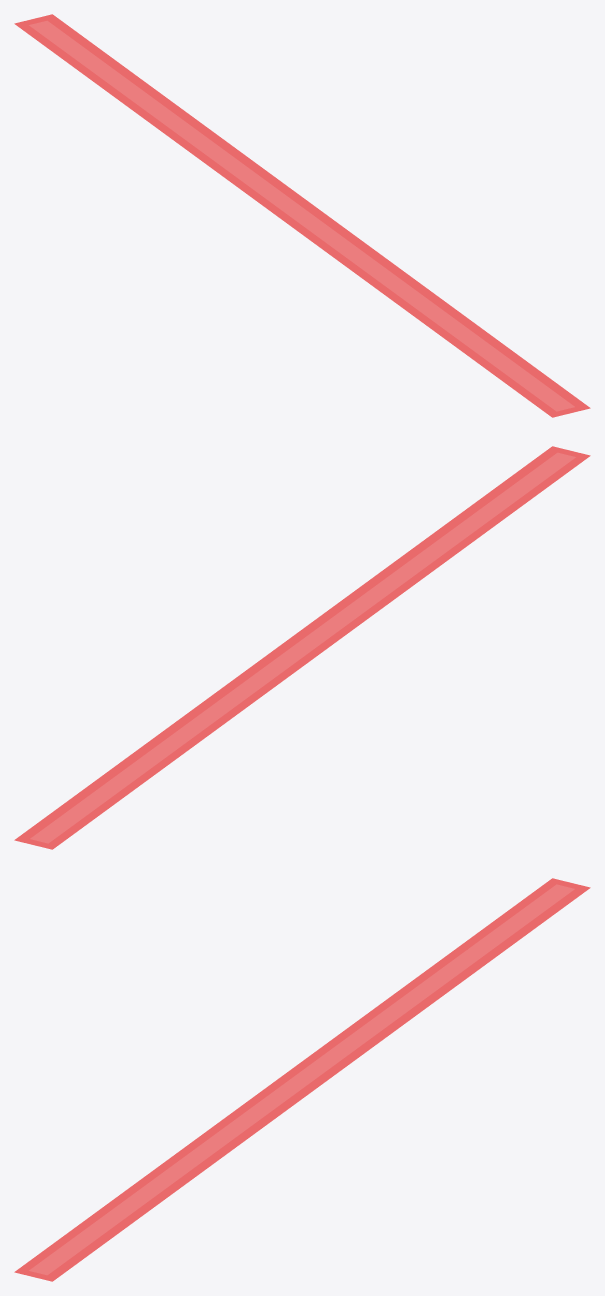
The model's file is Slam Indicator.fbx.
3 renders of one model, top to bottom at view 1: azimuth 30°, elevation 25°; view 2: azimuth 150°, elevation 25°; view 3: azimuth 330°, elevation 25°, orthographic.
Parts seen in each view (by area): view 1: Slam Borders, Slam Expansion, Slam Base; view 2: Slam Borders, Slam Expansion, Slam Base; view 3: Slam Borders, Slam Expansion, Slam Base.
Part boxes in pixels (x1,y1,x2,y2): Slam Borders: (14, 14, 590, 417); Slam Expansion: (29, 21, 574, 411); Slam Base: (30, 21, 572, 410); Slam Borders: (14, 446, 590, 849); Slam Expansion: (30, 453, 575, 843); Slam Base: (31, 453, 574, 842); Slam Borders: (14, 878, 590, 1281); Slam Expansion: (29, 884, 574, 1274); Slam Base: (30, 885, 573, 1273).
Size of the model in its own units: 44.03 by 7.17e-06 by 1064.
